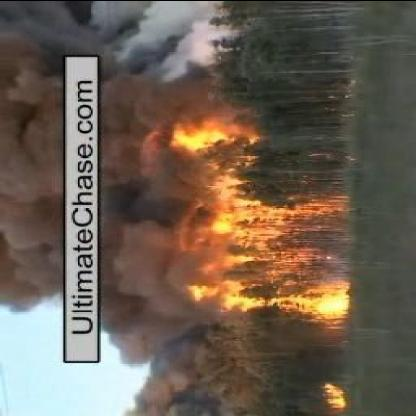-: (105, 40, 175, 358), (8, 46, 62, 298)
foggia-v2-map80-epoch100 - v1 4323: (309, 286, 346, 318)
